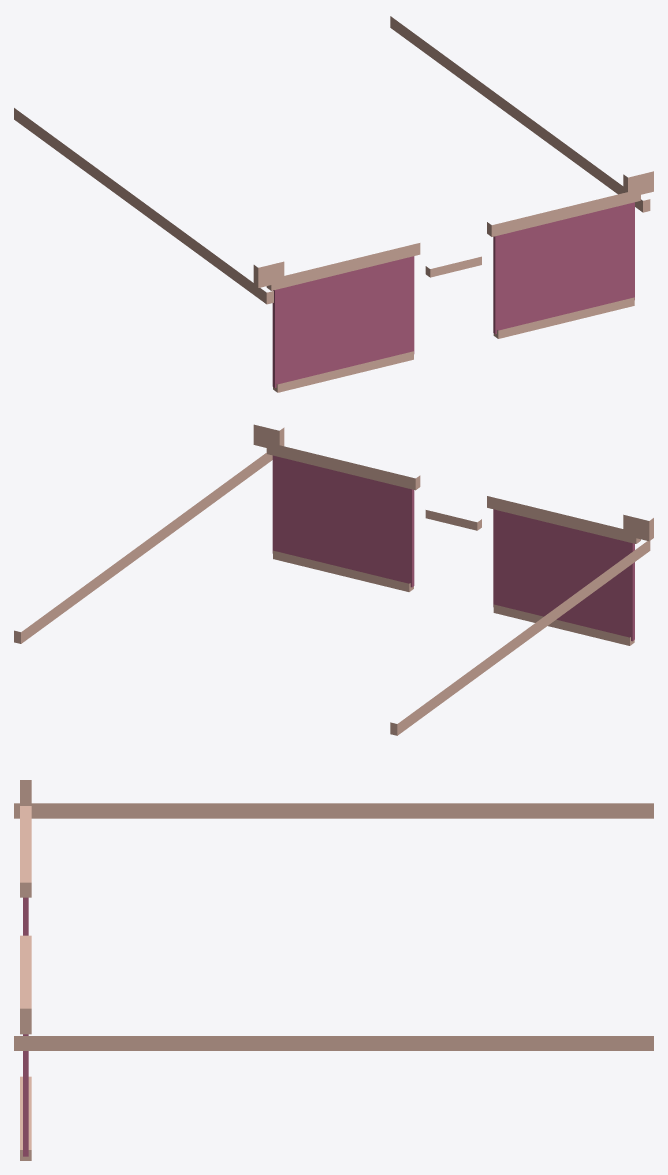
The model's file is cateye_luxury_rose.glb.
3 renders of one model, top to bottom at view 1: azimuth 30°, elevation 25°; view 2: azimuth 150°, elevation 25°; view 3: azimuth 270°, elevation 25°, orthographic. The views are drawn at different scales.
Parts seen in each view (by area): view 1: CatEye_Rose_Lenses_Node, CatEye_Rose_Frame_Node; view 2: CatEye_Rose_Lenses_Node, CatEye_Rose_Frame_Node; view 3: CatEye_Rose_Frame_Node, CatEye_Rose_Lenses_Node.
Part boxes in pixels (x1,y1,x2,y2): CatEye_Rose_Lenses_Node: (272, 202, 634, 387); CatEye_Rose_Frame_Node: (14, 16, 653, 392); CatEye_Rose_Lenses_Node: (272, 455, 634, 641); CatEye_Rose_Frame_Node: (14, 424, 653, 735); CatEye_Rose_Frame_Node: (14, 780, 653, 1160); CatEye_Rose_Lenses_Node: (23, 897, 28, 1156).
Bounding box in the file's own units: 122 × 38.25 × 135.
